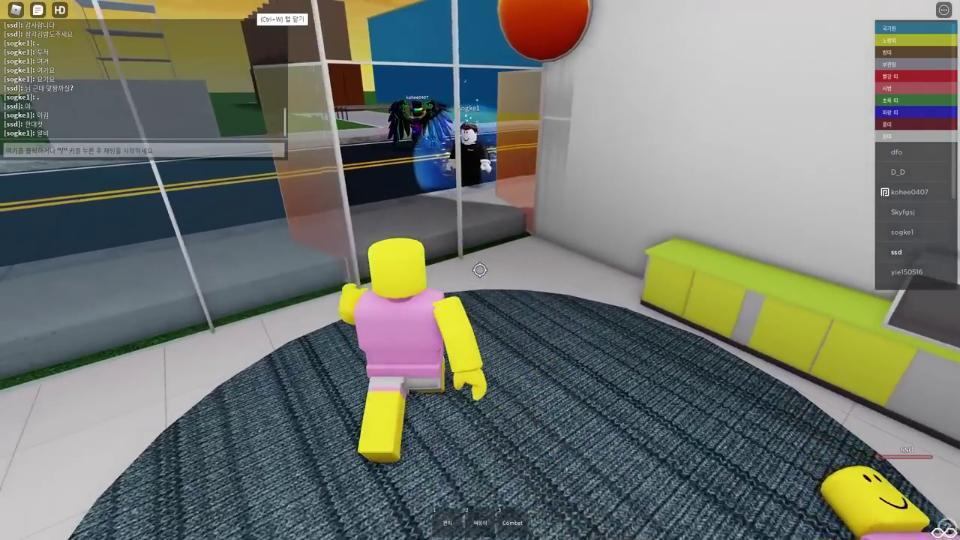Character: (340, 239, 487, 461), (820, 466, 960, 540), (387, 99, 453, 144), (449, 123, 492, 187)
